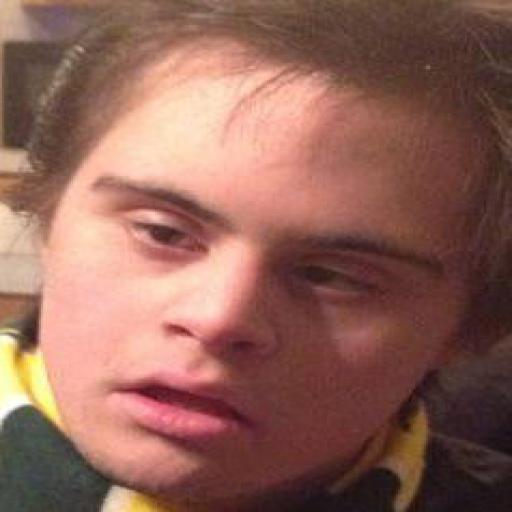Autism: (26, 6, 486, 494)
